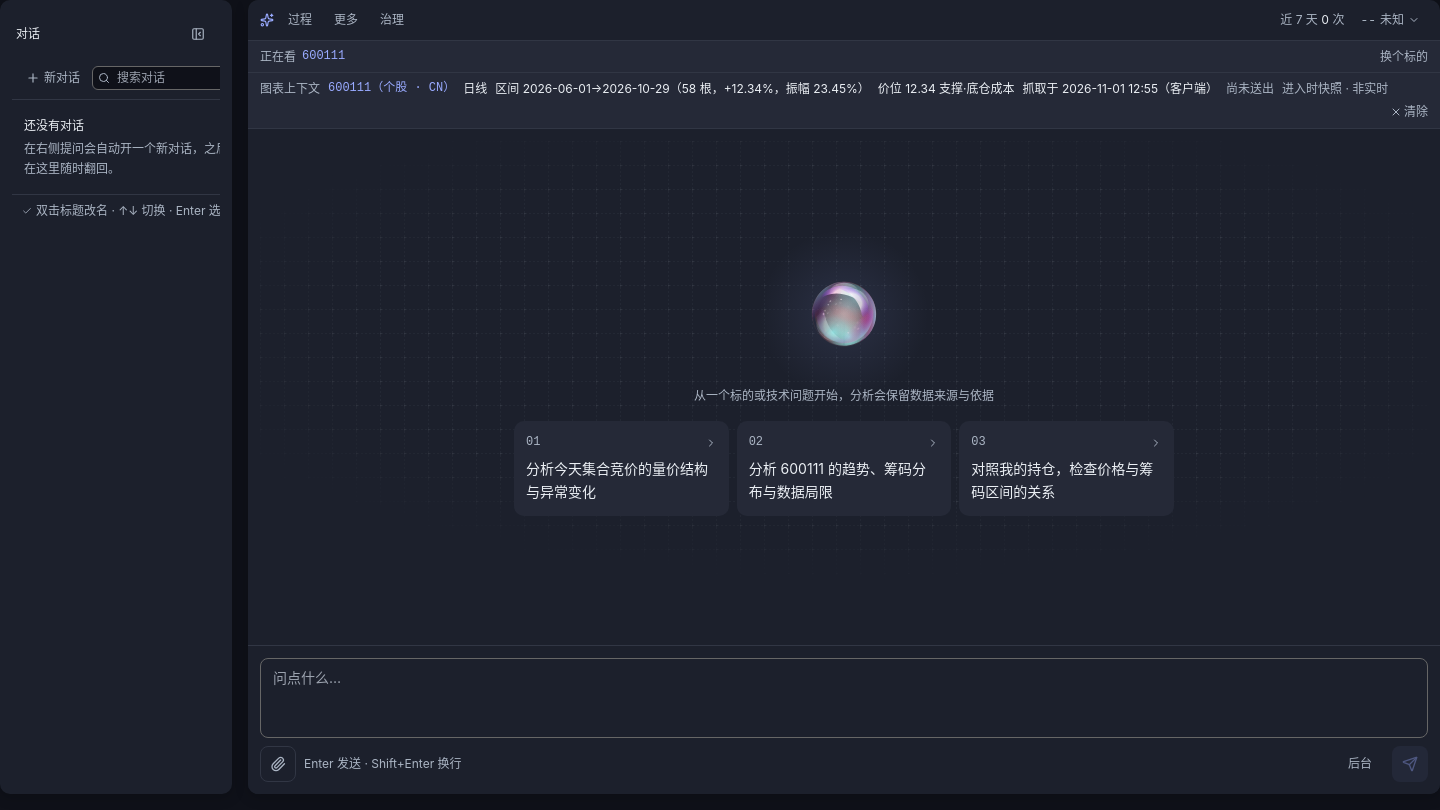
it: ⑤ 发送前复核当前账号 › A 的快照读到后换号成 B：B 的提问不得带 A 的区间，也不得进 A 的会话
The image size is (1440, 810).
Expected: the element with test id "copilot-chart-context" is shown, [248,73,1439,129]
Expected: the button named "发送" is shown, [1392,746,1428,782]
Type "先看看 600111" into the text box with placeholder "问点什么…" at (844, 698), box [260,658,1428,738]
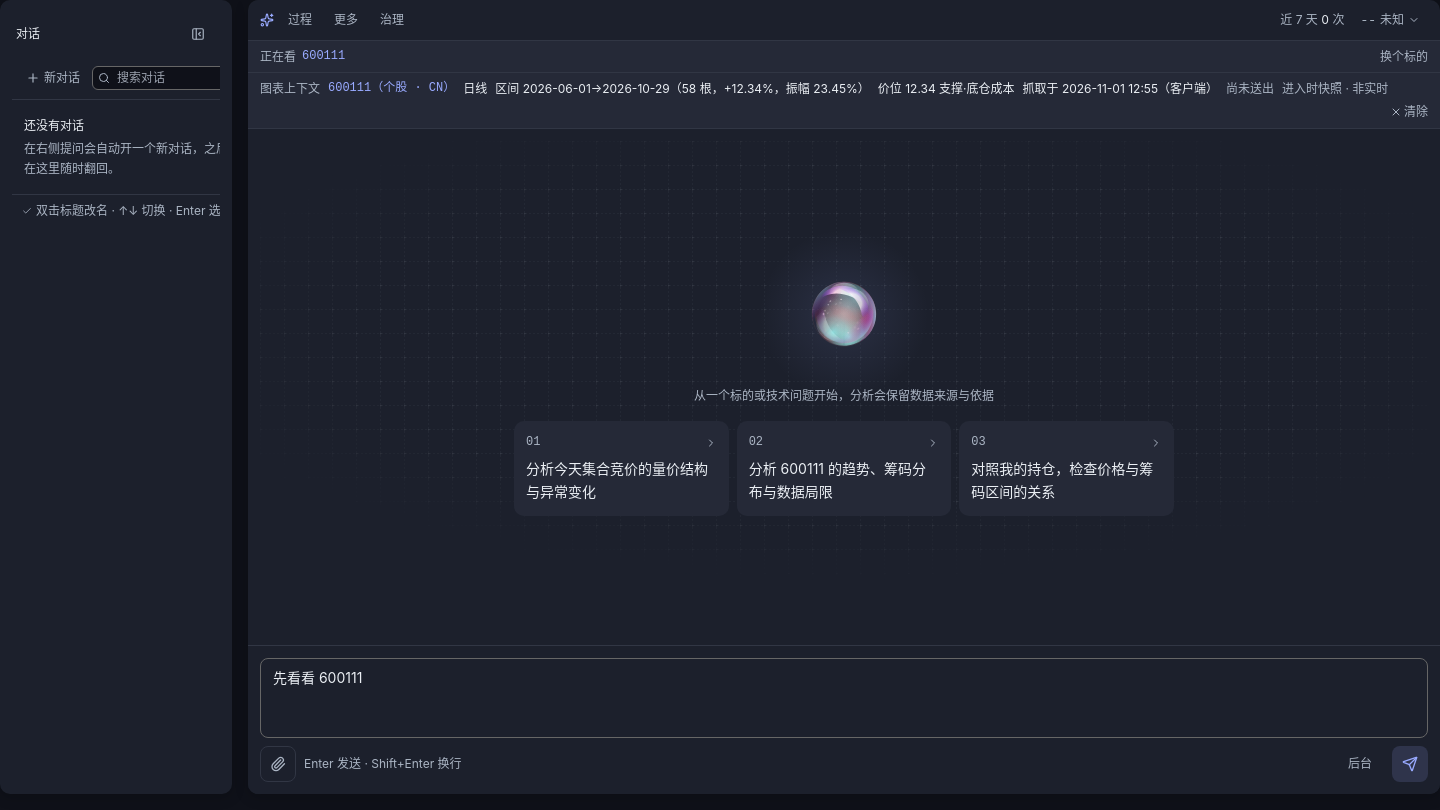
Click the button named "发送" at (1410, 764), box [1392,746,1428,782]
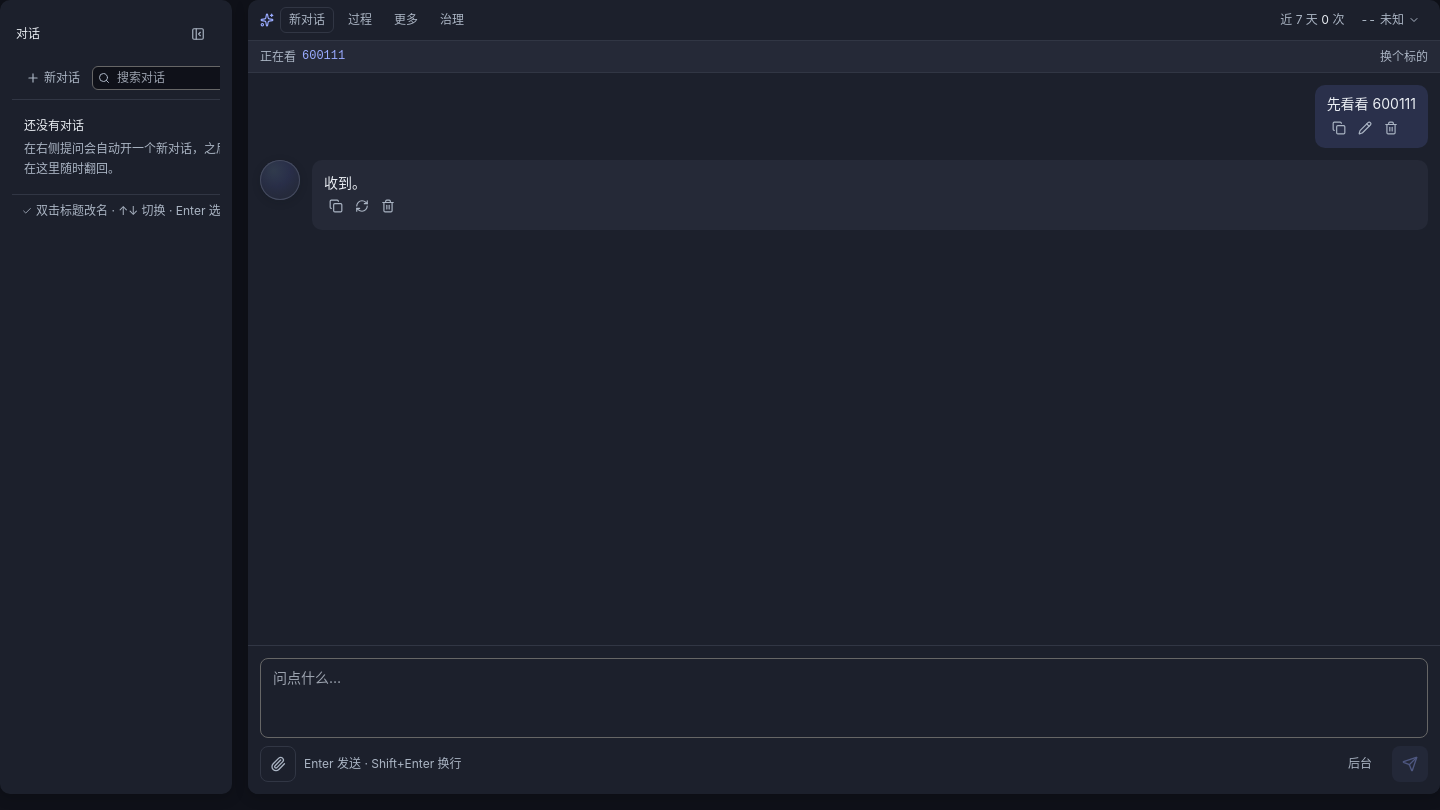
Type "这票还能拿吗" into the text box with placeholder "问点什么…" at (844, 698), box [260,658,1428,738]
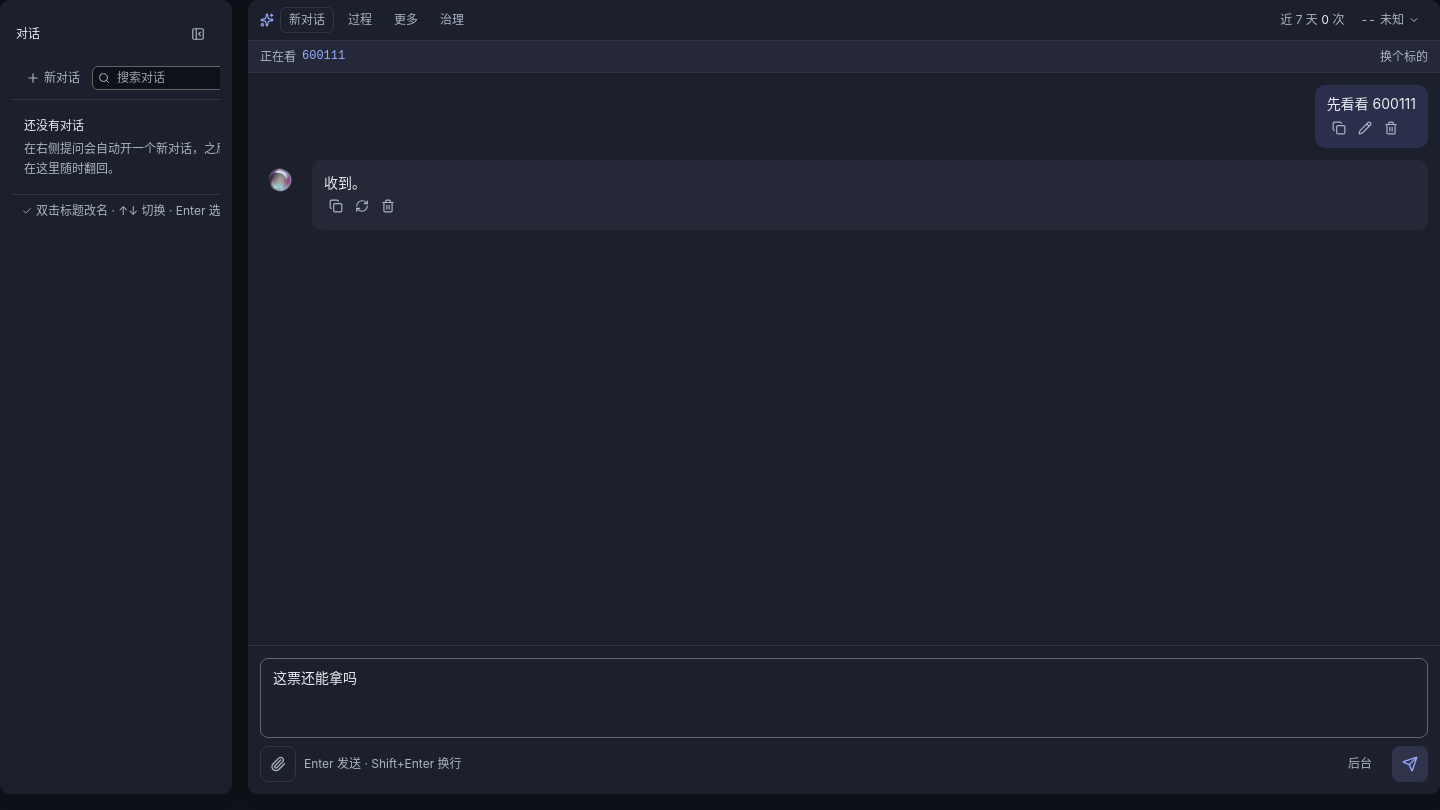
Click the button named "发送" at (1410, 764), box [1392,746,1428,782]
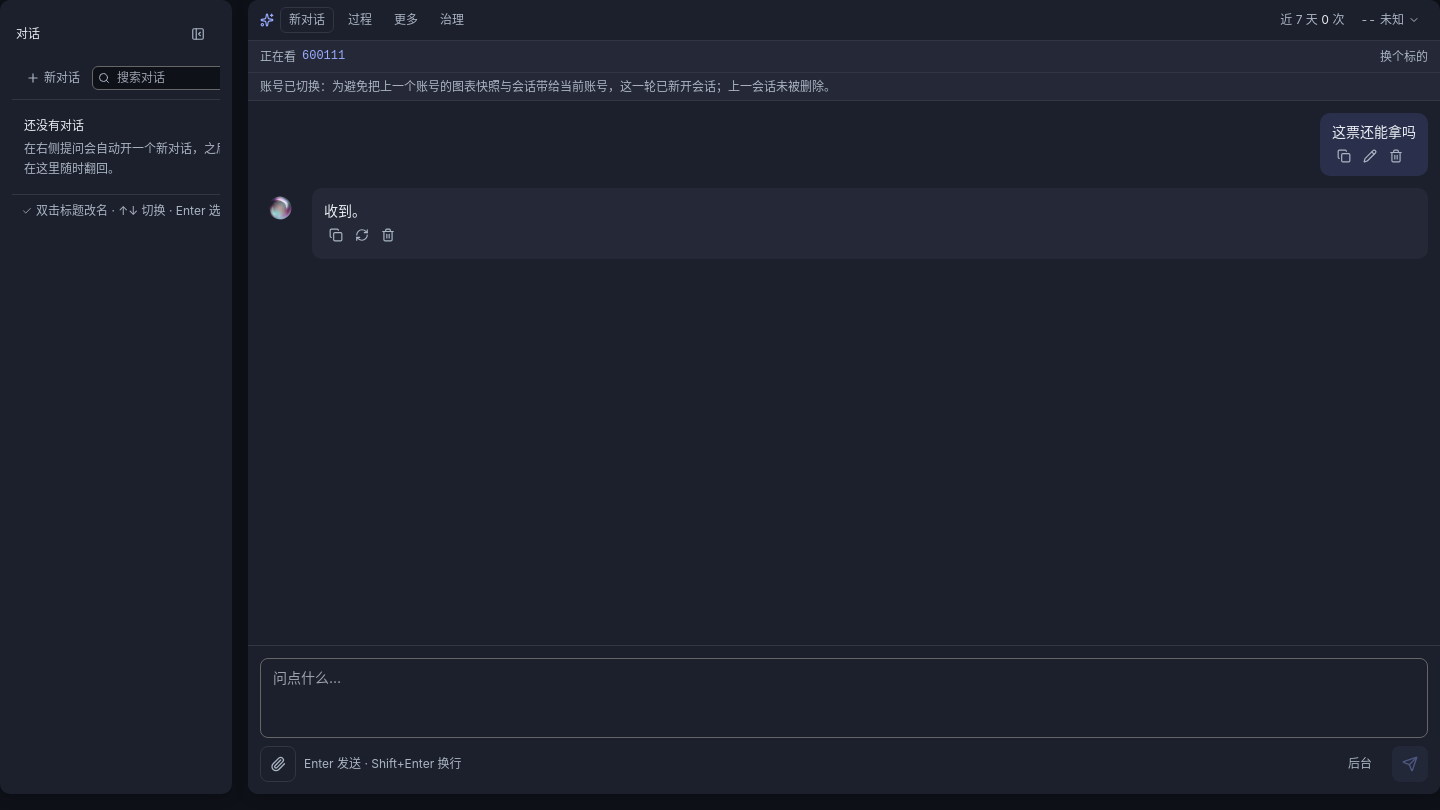
Now the text with test id "copilot-chart-context-notice" shows "账号", box [248,73,1439,101]
